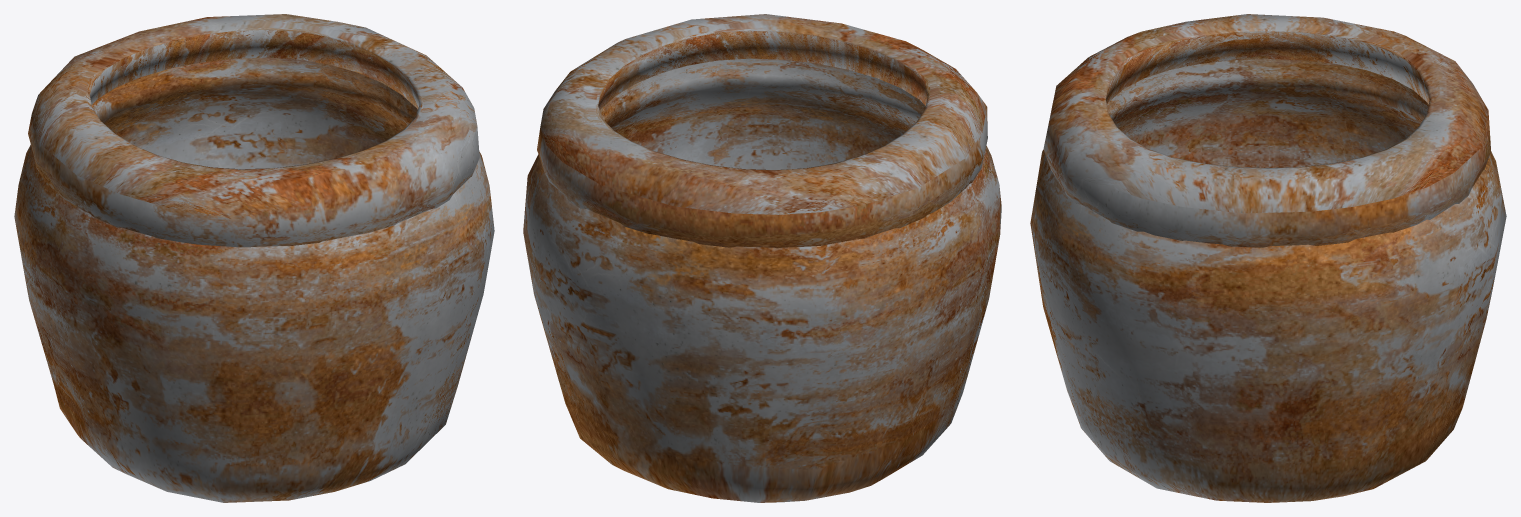
The model's file is SM_pot04.fbx.
3 views of the same model, side by side, from view 1: azimuth 30°, elevation 25°; view 2: azimuth 150°, elevation 25°; view 3: azimuth 270°, elevation 25° (orthographic).
Visible parts, largest first — view 1: SM_pot04_LOD0; view 2: SM_pot04_LOD0; view 3: SM_pot04_LOD0.
Boxes of the visible parts, box(x1,y1,x2,y2) form: SM_pot04_LOD0: box(14, 14, 494, 502); SM_pot04_LOD0: box(523, 14, 1001, 502); SM_pot04_LOD0: box(1030, 14, 1506, 502).
Bounding box in the file's own units: 39.62 × 39.68 × 32.61.
